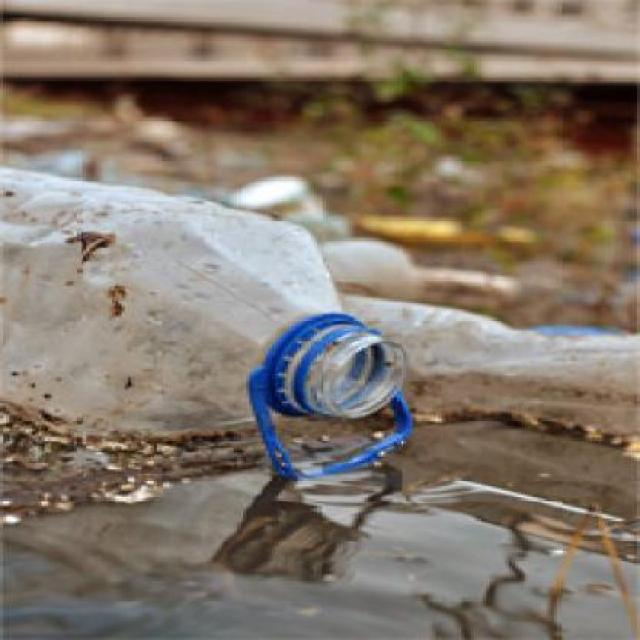bottle: (0, 121, 425, 514)
